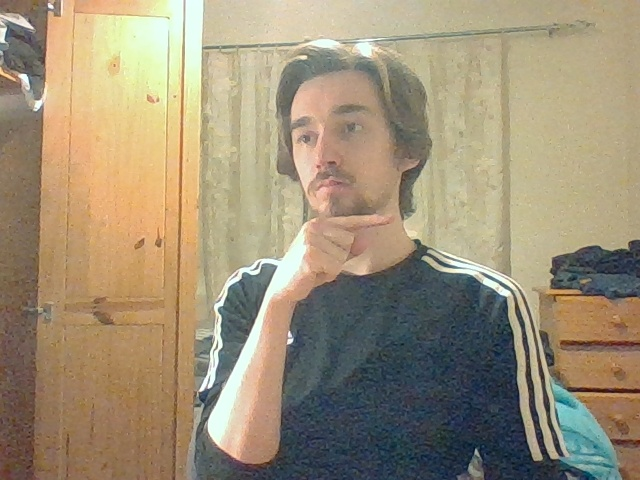son: (300, 213, 394, 286)
